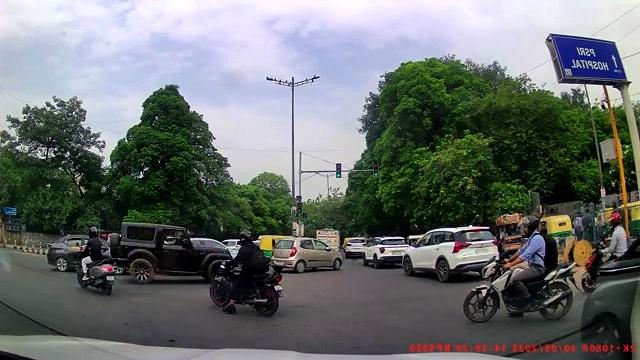motorcycle_with_helmet: (461, 214, 577, 322), (208, 228, 283, 317), (75, 226, 116, 296)
